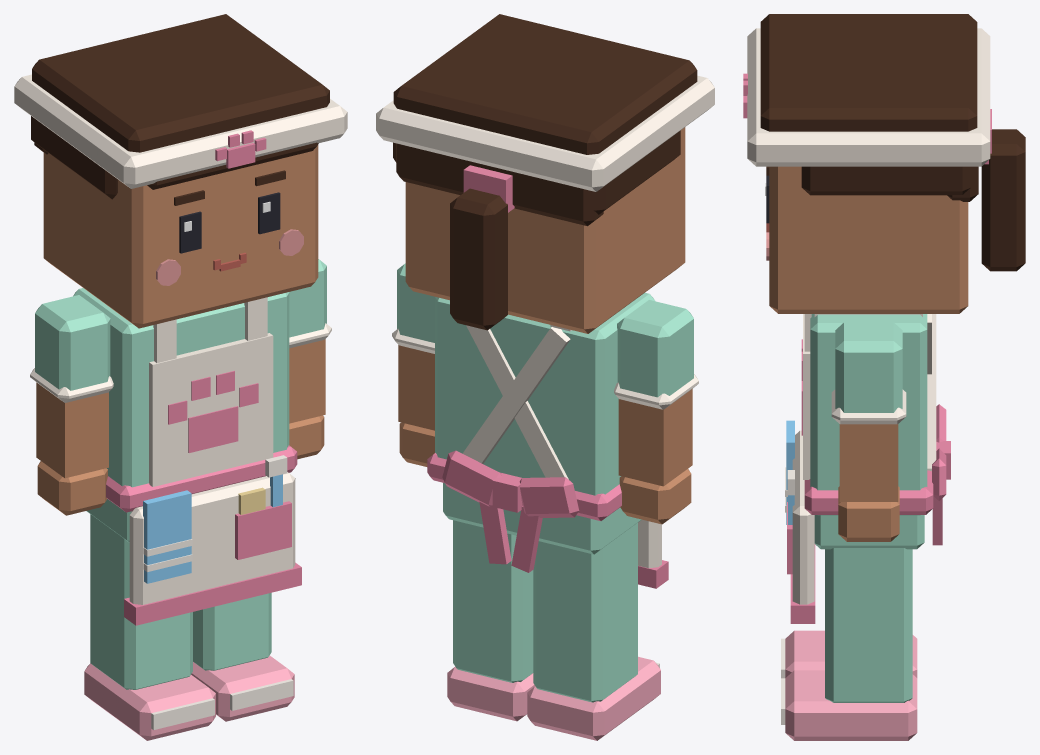
File: CleanACat_NPC_Staff_Lou.fbx
The picture shows the model from 3 angles, left to right: view 1: azimuth 30°, elevation 25°; view 2: azimuth 150°, elevation 25°; view 3: azimuth 270°, elevation 25°; orthographic projection. The views are drawn at different scales.
Parts seen in each view (by area): view 1: CleanACat_NPC_Staff_Lou_Head, CleanACat_NPC_Staff_Lou_Body, CleanACat_NPC_Staff_Lou_LegR, CleanACat_NPC_Staff_Lou_ArmR, CleanACat_NPC_Staff_Lou_LegL, CleanACat_NPC_Staff_Lou_ArmL; view 2: CleanACat_NPC_Staff_Lou_Head, CleanACat_NPC_Staff_Lou_Body, CleanACat_NPC_Staff_Lou_LegR, CleanACat_NPC_Staff_Lou_ArmR, CleanACat_NPC_Staff_Lou_LegL, CleanACat_NPC_Staff_Lou_ArmL; view 3: CleanACat_NPC_Staff_Lou_Head, CleanACat_NPC_Staff_Lou_Body, CleanACat_NPC_Staff_Lou_LegL, CleanACat_NPC_Staff_Lou_ArmL, CleanACat_NPC_Staff_Lou_LegR.
Boxes of the visible parts, box(x1,y1,x2,y2) form: CleanACat_NPC_Staff_Lou_Head: box(14, 14, 347, 328); CleanACat_NPC_Staff_Lou_Body: box(73, 288, 301, 625); CleanACat_NPC_Staff_Lou_LegR: box(84, 514, 215, 740); CleanACat_NPC_Staff_Lou_ArmR: box(30, 295, 113, 515); CleanACat_NPC_Staff_Lou_LegL: box(191, 592, 294, 721); CleanACat_NPC_Staff_Lou_ArmL: box(289, 259, 331, 459); CleanACat_NPC_Staff_Lou_Head: box(376, 14, 714, 333); CleanACat_NPC_Staff_Lou_Body: box(427, 292, 668, 588); CleanACat_NPC_Staff_Lou_LegR: box(527, 522, 660, 740); CleanACat_NPC_Staff_Lou_ArmR: box(614, 300, 698, 524); CleanACat_NPC_Staff_Lou_LegL: box(447, 520, 534, 721); CleanACat_NPC_Staff_Lou_ArmL: box(392, 263, 435, 466); CleanACat_NPC_Staff_Lou_Head: box(743, 14, 1025, 313); CleanACat_NPC_Staff_Lou_Body: box(785, 314, 950, 623); CleanACat_NPC_Staff_Lou_LegL: box(781, 548, 917, 740); CleanACat_NPC_Staff_Lou_ArmL: box(831, 322, 906, 541); CleanACat_NPC_Staff_Lou_LegR: box(781, 630, 917, 678).
Size of the model in its own units: 2.23 by 4.86 by 1.93.
1 material, 1 textured.
